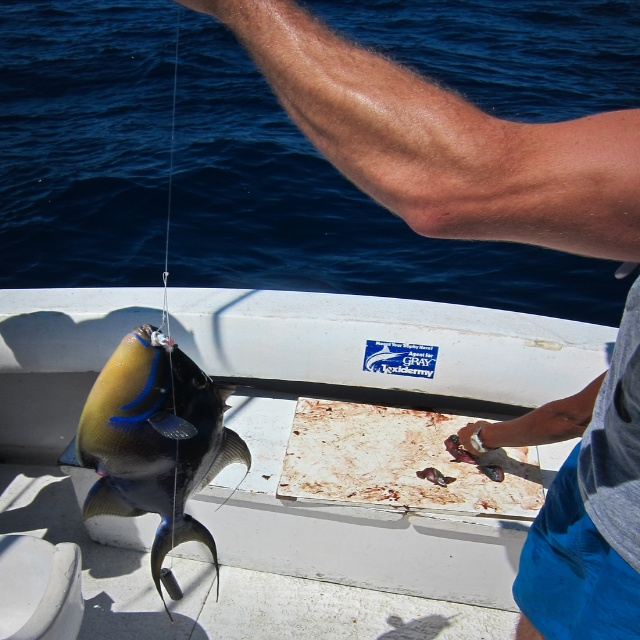Fish: (65, 330, 249, 605)
